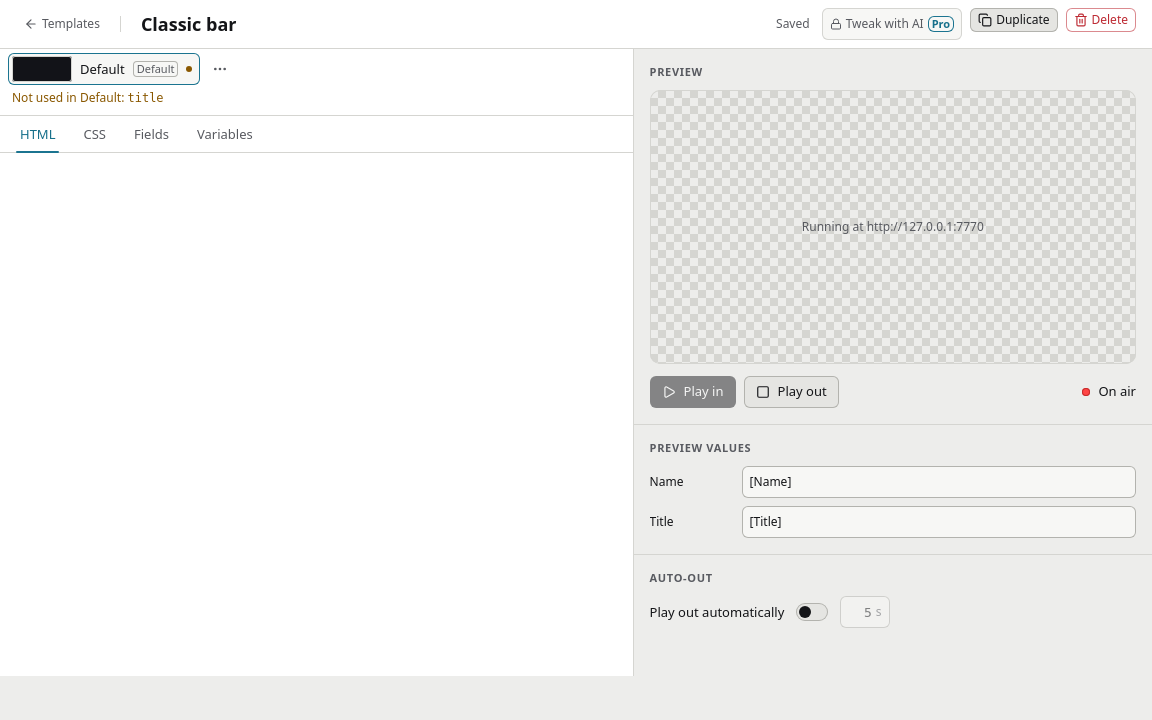
Test: drafts and autosave › a field key may not collide with a variable key
Click the tab "Fields".
click(152, 134)  # box [122, 116, 181, 152]
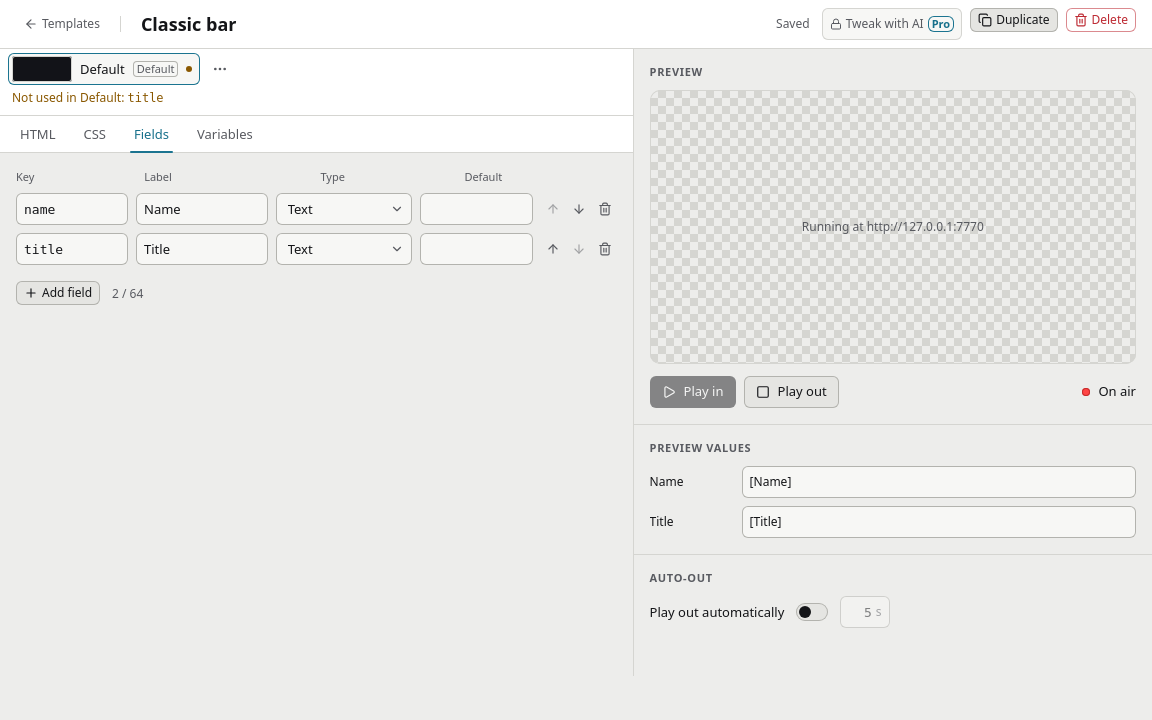
Replace the text in the field named "Field 1 key" with "accent" at coordinates (72, 209), box [16, 193, 128, 225]
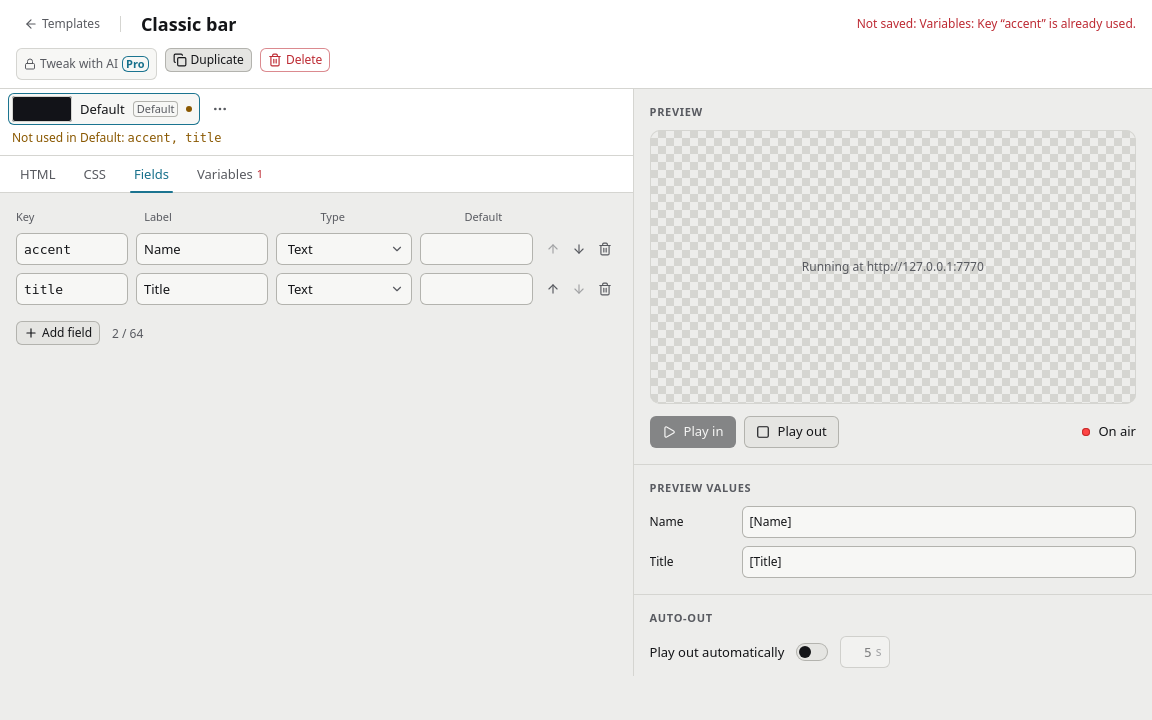
Check: the text "Not saved: Variables: Key “accent” is already used." is shown, box [857, 15, 1136, 33]
